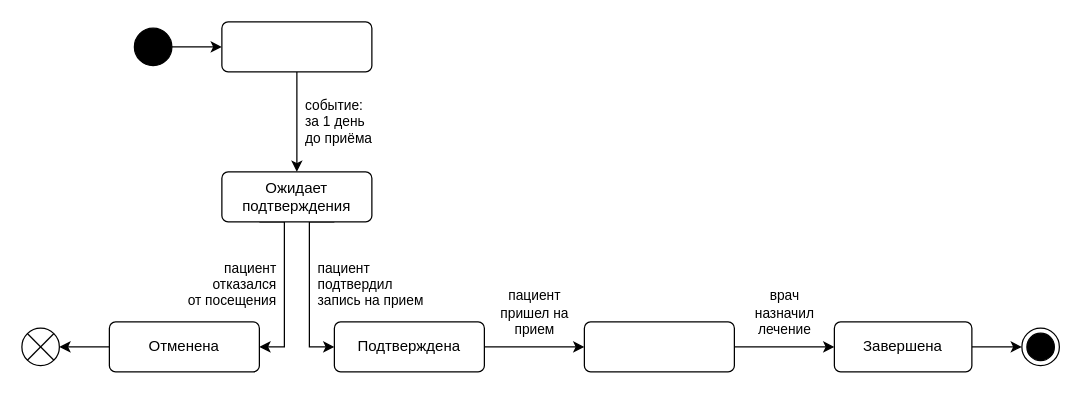
This 1081x394 diagram has some shape labels left out. Here are the shapes that lost their labels. From the top down, the centre of each, then its label:
point (296, 46): Создана
point (658, 346): В работе
